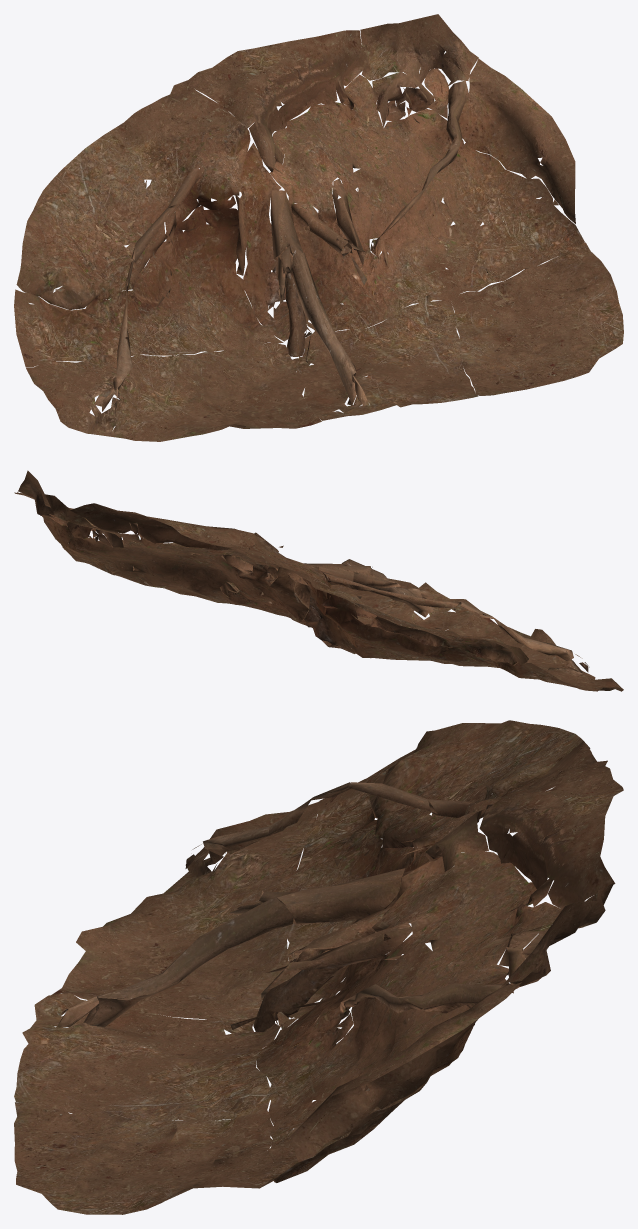
Rendered from root_cluster_01.glb.
3 renders of one model, top to bottom at view 1: azimuth 30°, elevation 25°; view 2: azimuth 150°, elevation 25°; view 3: azimuth 270°, elevation 25°, orthographic. The views are drawn at different scales.
Parts seen in each view (by area): view 1: root_cluster_01; view 2: root_cluster_01; view 3: root_cluster_01.
Boxes of the visible parts, x1=… form: root_cluster_01: x1=14, y1=14, x2=623, y2=441; root_cluster_01: x1=14, y1=470, x2=623, y2=691; root_cluster_01: x1=14, y1=720, x2=623, y2=1214.
Size of the model in its own units: 4.12 by 1.5 by 2.68.
Materials: 1 (1 with a texture image).
